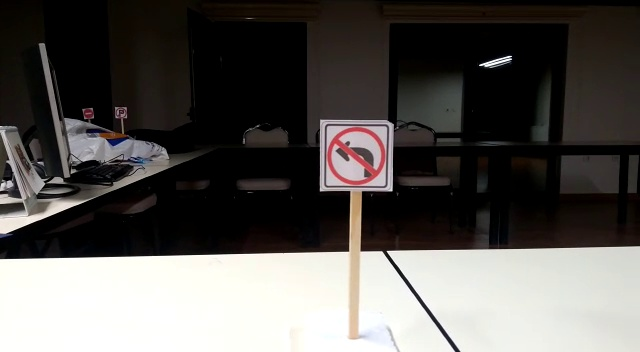sola_donulmez: (321, 120, 391, 188)
